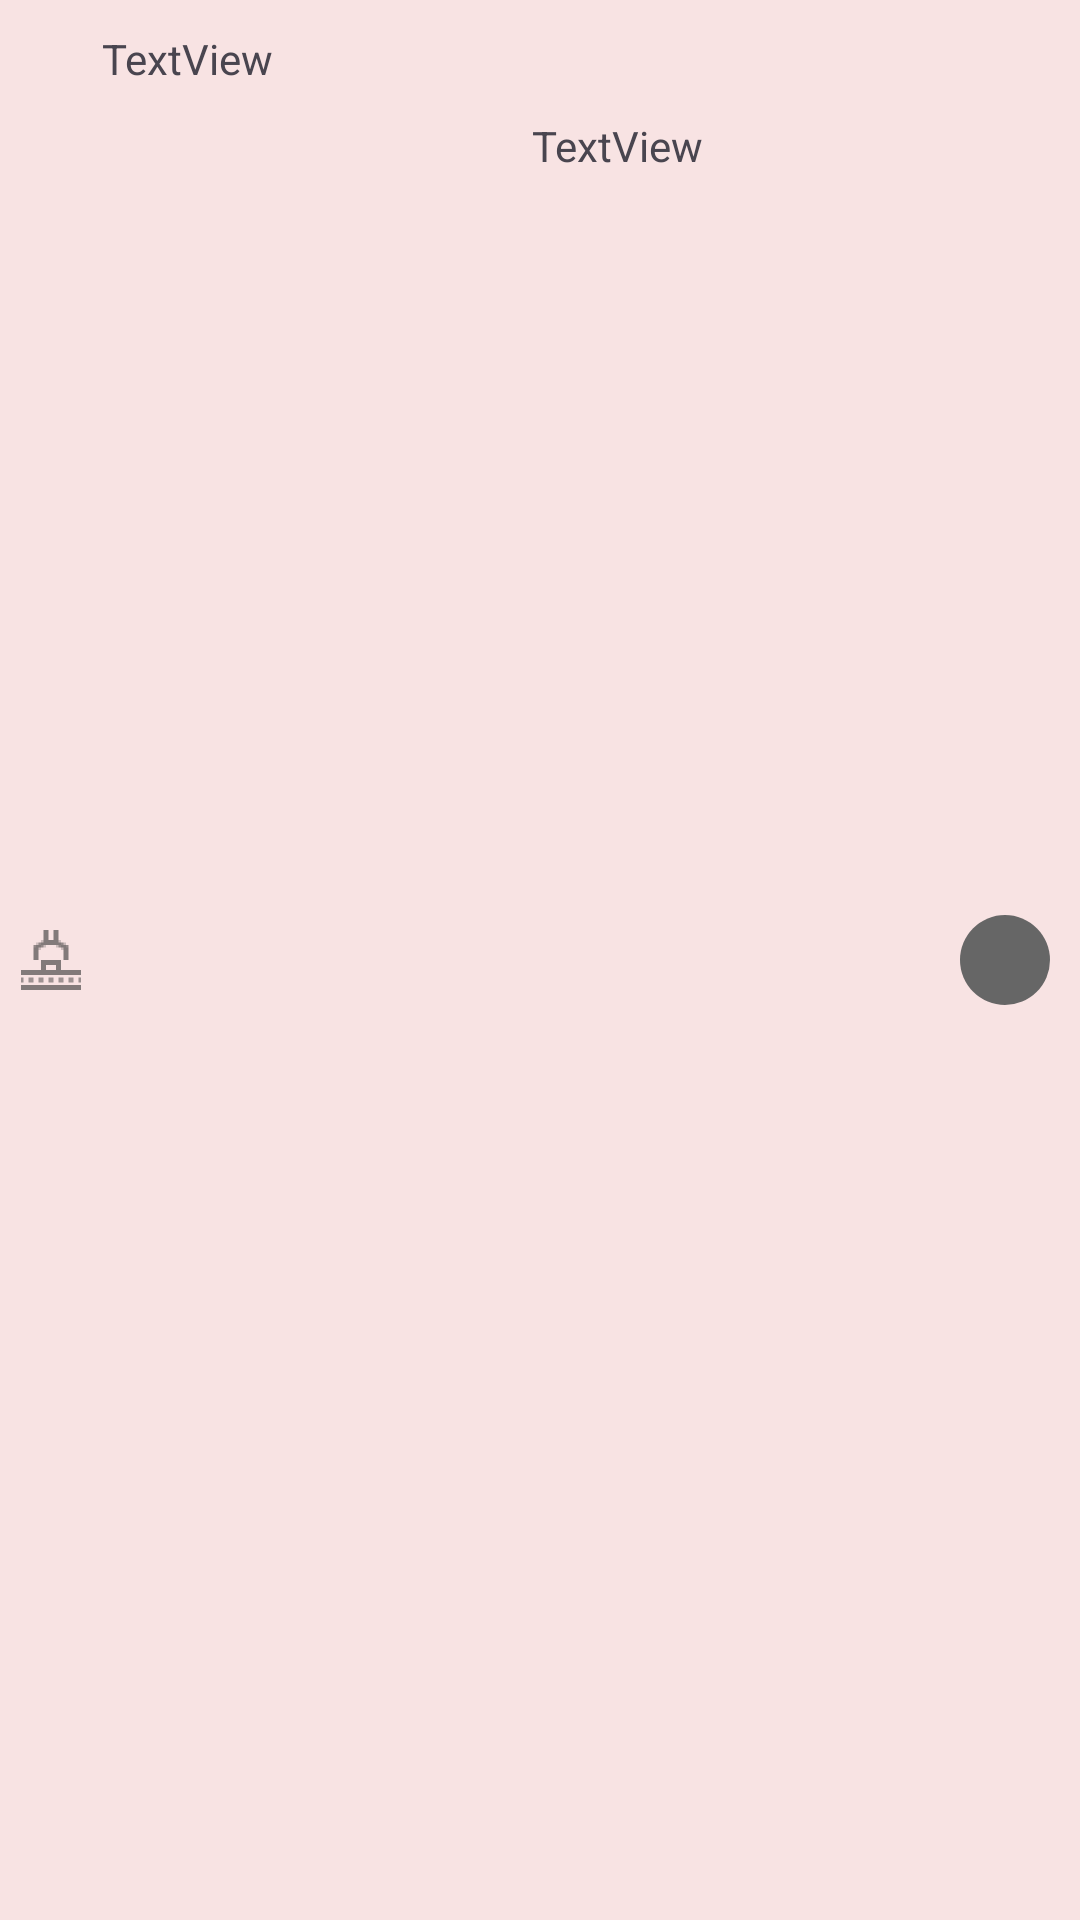

Icon click points for this 1080px x 1920px phone screenshot, format [x,y]:
assembly line: [51,960]
